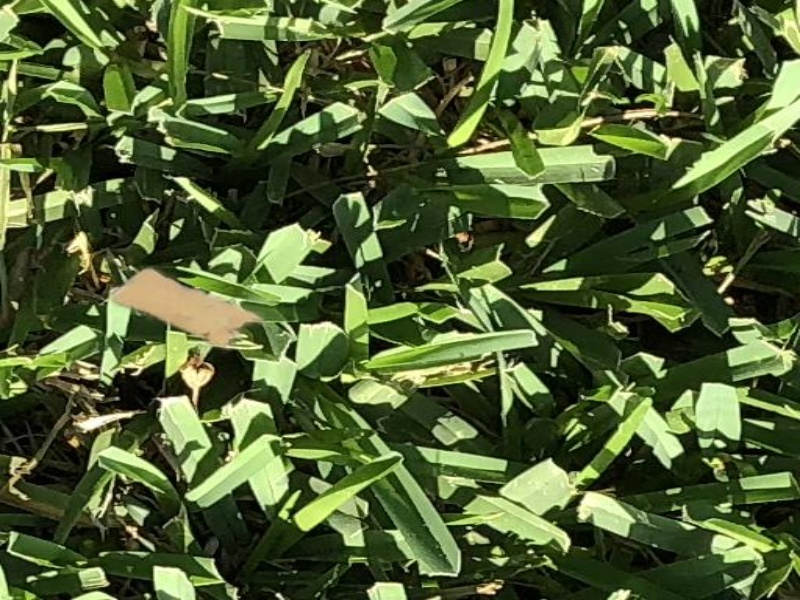cig: (116, 260, 260, 354)
